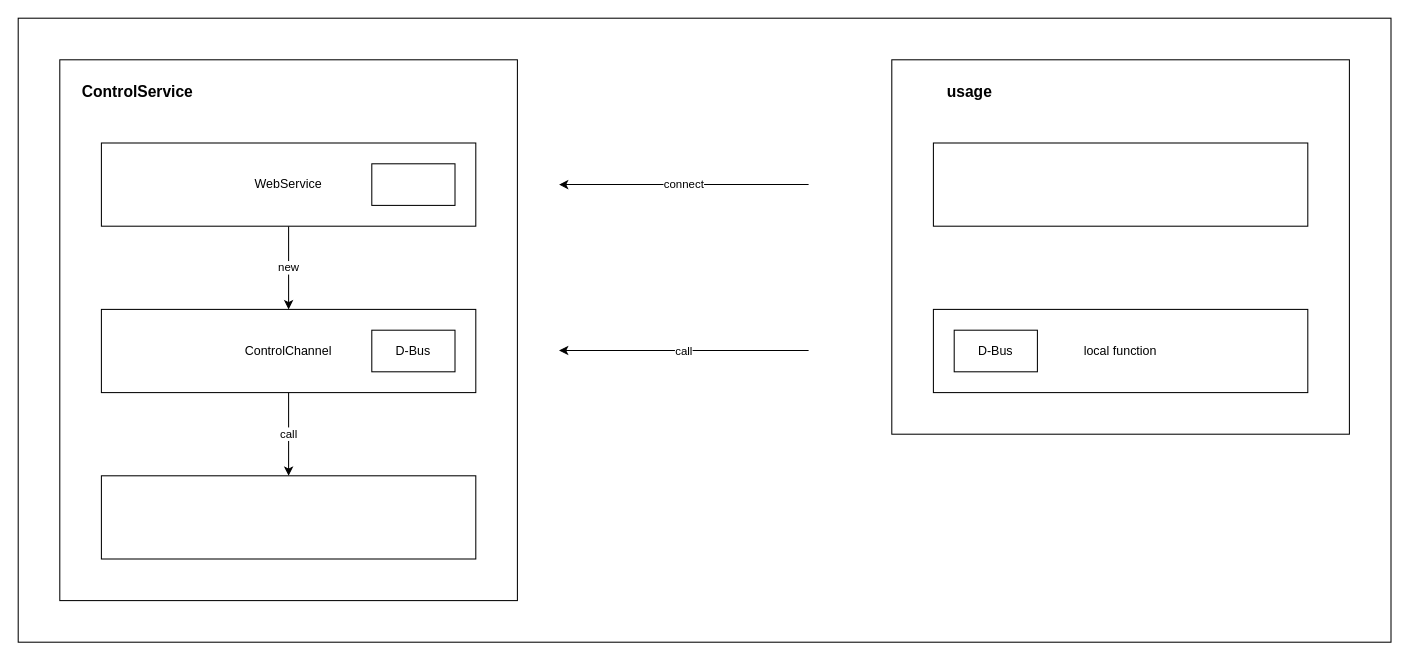
The diagram is 1409 pixels wide and 660 high, and some of its shapes have lost their labels. The centre of each missing label's shape, as x and y in pixels:
/ws server: pixel 413 184
LinuxHostSession: pixel 288 517
websocket client: pixel 1120 184
